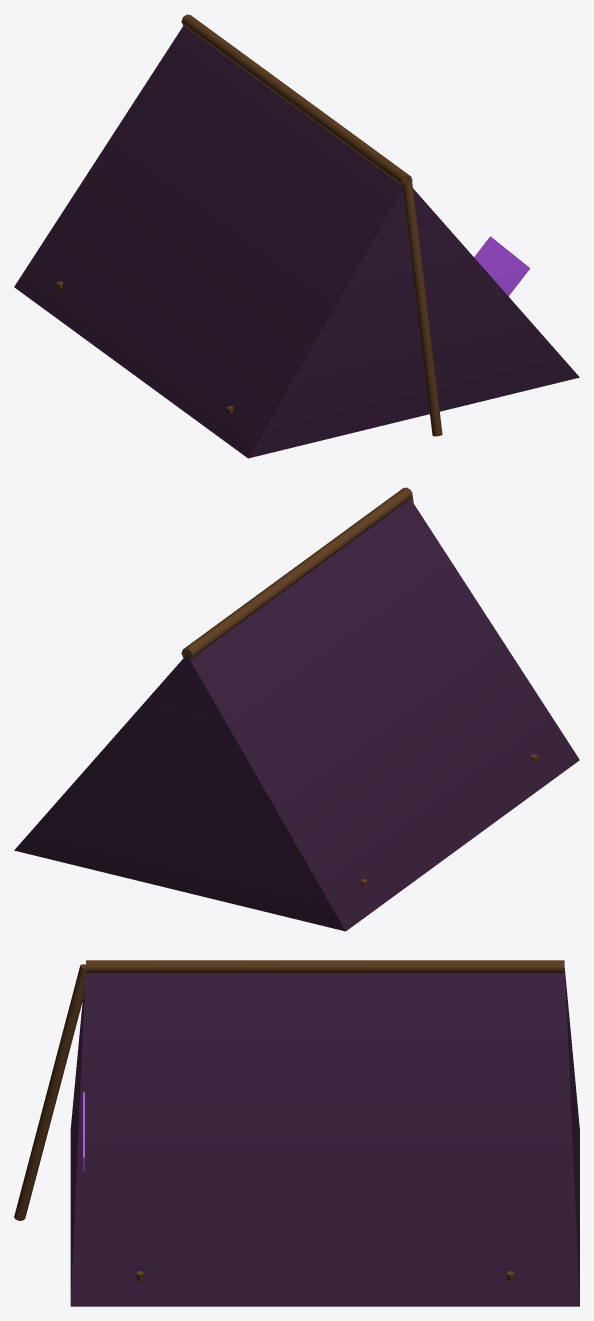
Rendered from cultist_tent.glb.
3 renders of one model, top to bottom at view 1: azimuth 30°, elevation 25°; view 2: azimuth 150°, elevation 25°; view 3: azimuth 270°, elevation 25°, orthographic. The views are drawn at different scales.
Visible parts, largest first — view 1: cultist_tent; view 2: cultist_tent; view 3: cultist_tent.
Part boxes in pixels (x1,y1,x2,y2): cultist_tent: (14, 14, 579, 458); cultist_tent: (14, 487, 579, 931); cultist_tent: (14, 960, 579, 1306).
Size of the model in its own units: 3.6 by 2.47 by 4.89.
